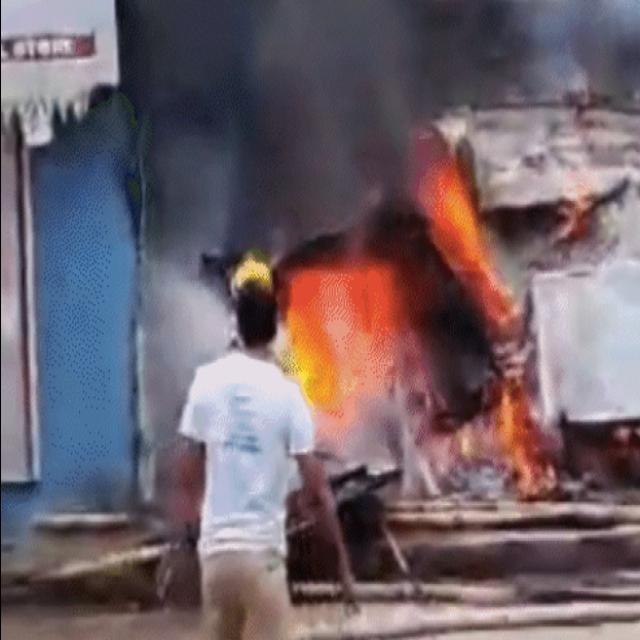fire: (277, 258, 416, 451), (417, 126, 523, 354), (416, 354, 556, 501), (230, 253, 273, 291)
